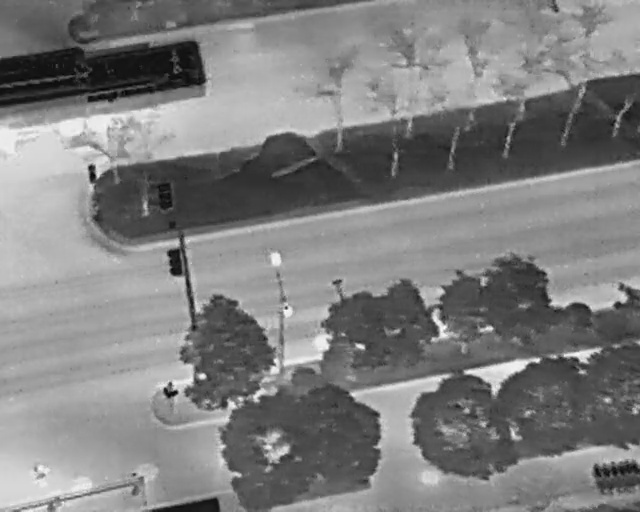Bicycle: (589, 458, 607, 494), (598, 459, 616, 495), (604, 458, 622, 494), (613, 457, 631, 493), (621, 457, 637, 492), (629, 457, 639, 489)
OtherVehicle: (0, 37, 212, 124)
Person: (162, 381, 178, 415)
